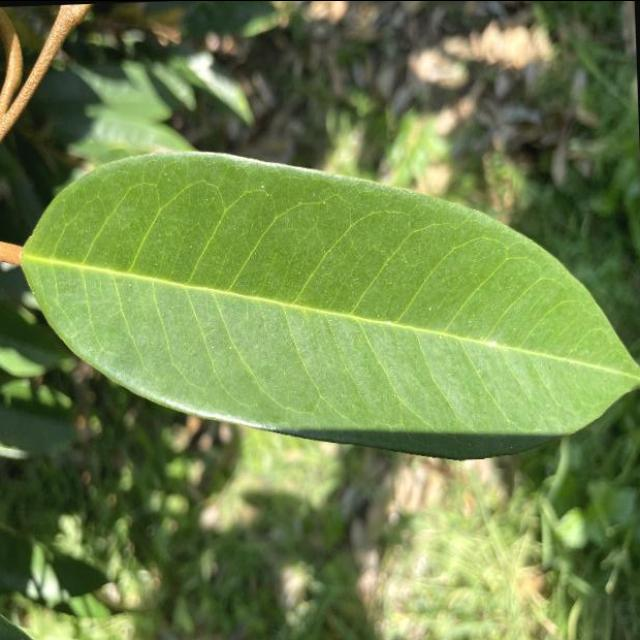No Disease: (5, 124, 640, 482)
